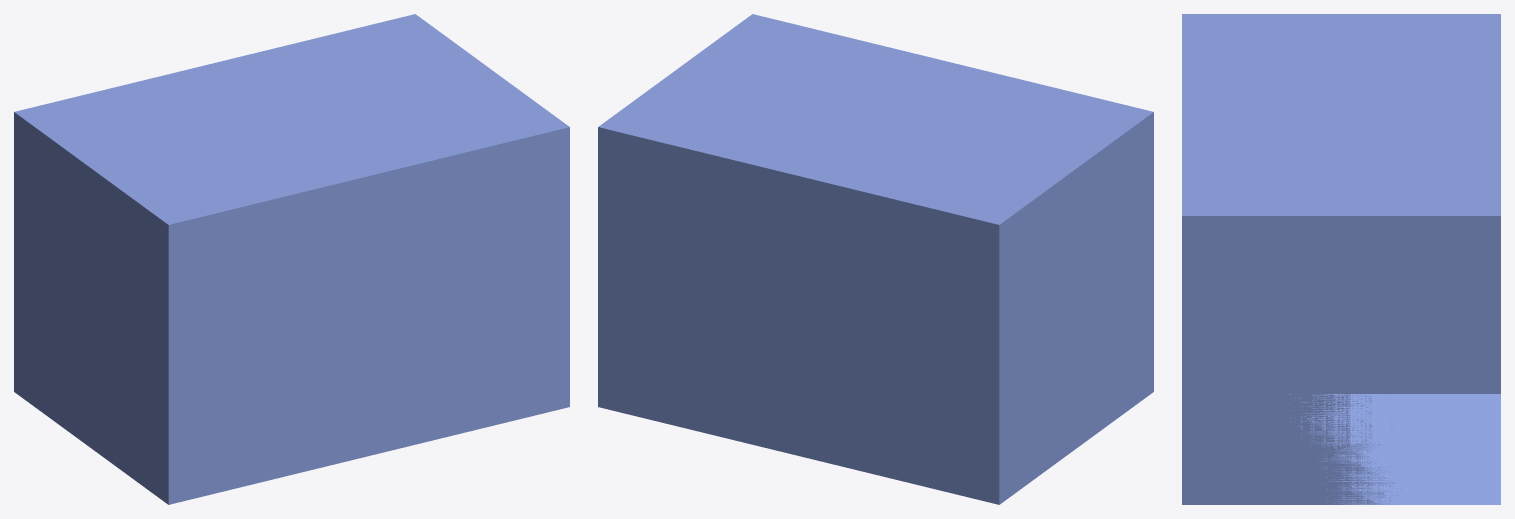
File: fragmented-R.glb
3 renders of one model, left to right at view 1: azimuth 30°, elevation 25°; view 2: azimuth 150°, elevation 25°; view 3: azimuth 270°, elevation 25°, orthographic. The views are drawn at different scales.
Parts seen in each view (by area): view 1: blockL-hit4-Visual, blockL-hit1-Visual, blockL-Frag.005, blockL-Frag.004, blockL-hit2-Visual, blockL-hit3-Visual, blockL-Frag.003, blockL-Frag.001, blockL-Frag.006, blockL-Frag.002, blockL-Frag.007, blockL-Frag.008; view 2: blockL-hit4-Visual, blockL-hit1-Visual, blockL-Frag.005, blockL-Frag.006, blockL-Frag.004, blockL-Frag.007, blockL-Frag.008, blockL-hit3-Visual, blockL-hit2-Visual; view 3: blockL-hit4-Visual, blockL-hit3-Visual, blockL-Frag.003, blockL-Frag.005, blockL-hit2-Visual, blockL-hit1-Visual, blockL-Frag.002, blockL-Frag.004.
Boxes of the visible parts, left/top/right/bottom form: blockL-hit4-Visual: left=14, top=14, right=522, bottom=503; blockL-hit1-Visual: left=14, top=15, right=567, bottom=504; blockL-Frag.005: left=15, top=56, right=397, bottom=310; blockL-Frag.004: left=243, top=14, right=569, bottom=305; blockL-hit2-Visual: left=17, top=15, right=509, bottom=502; blockL-hit3-Visual: left=15, top=15, right=554, bottom=502; blockL-Frag.003: left=356, top=127, right=569, bottom=311; blockL-Frag.001: left=355, top=312, right=569, bottom=451; blockL-Frag.006: left=77, top=159, right=353, bottom=379; blockL-Frag.002: left=356, top=299, right=569, bottom=406; blockL-Frag.007: left=82, top=312, right=354, bottom=504; blockL-Frag.008: left=292, top=312, right=385, bottom=458; blockL-hit4-Visual: left=598, top=16, right=1080, bottom=504; blockL-hit1-Visual: left=598, top=14, right=1143, bottom=503; blockL-Frag.005: left=770, top=56, right=1153, bottom=311; blockL-Frag.006: left=813, top=112, right=1153, bottom=379; blockL-Frag.004: left=599, top=14, right=923, bottom=310; blockL-Frag.007: left=813, top=267, right=1153, bottom=504; blockL-Frag.008: left=782, top=312, right=998, bottom=504; blockL-hit3-Visual: left=600, top=16, right=1136, bottom=302; blockL-hit2-Visual: left=599, top=17, right=1060, bottom=247; blockL-hit4-Visual: left=1182, top=14, right=1500, bottom=504; blockL-hit3-Visual: left=1182, top=14, right=1493, bottom=504; blockL-Frag.003: left=1259, top=216, right=1500, bottom=393; blockL-Frag.005: left=1182, top=14, right=1500, bottom=129; blockL-hit2-Visual: left=1182, top=14, right=1490, bottom=504; blockL-hit1-Visual: left=1182, top=14, right=1500, bottom=504; blockL-Frag.002: left=1289, top=394, right=1500, bottom=504; blockL-Frag.004: left=1182, top=129, right=1500, bottom=215.
Bounding box in the file's own units: 3 × 2 × 2.
